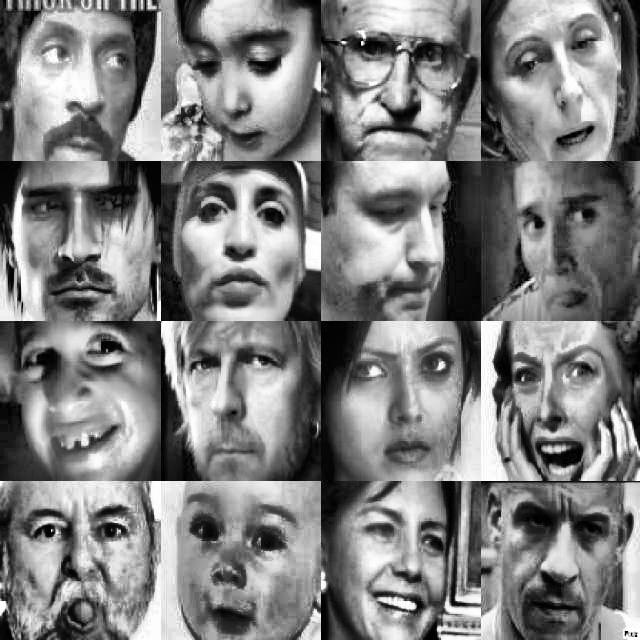angry: (324, 11, 473, 159), (330, 320, 462, 468), (174, 336, 303, 480), (500, 503, 632, 640)
fear: (500, 338, 626, 467), (512, 173, 634, 305)
happy: (12, 483, 148, 640), (171, 489, 303, 640), (170, 168, 299, 322), (17, 333, 153, 476), (342, 484, 459, 640)
neutral: (5, 5, 145, 161), (174, 6, 314, 149)
sad: (8, 166, 148, 324), (487, 12, 629, 161), (331, 169, 473, 311)
